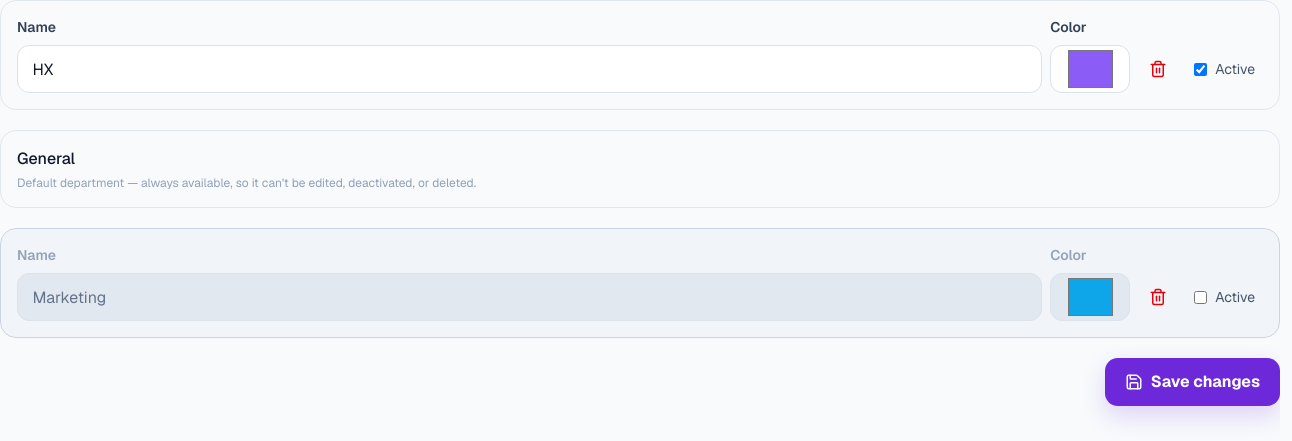
Test: DepartmentsBulkForm › the can't-delete error appears next to the buttons too
The image size is (1292, 441).
Click the button named "Delete HX".
click(1158, 69)  # box x1=1138 y1=45 x2=1178 y2=93
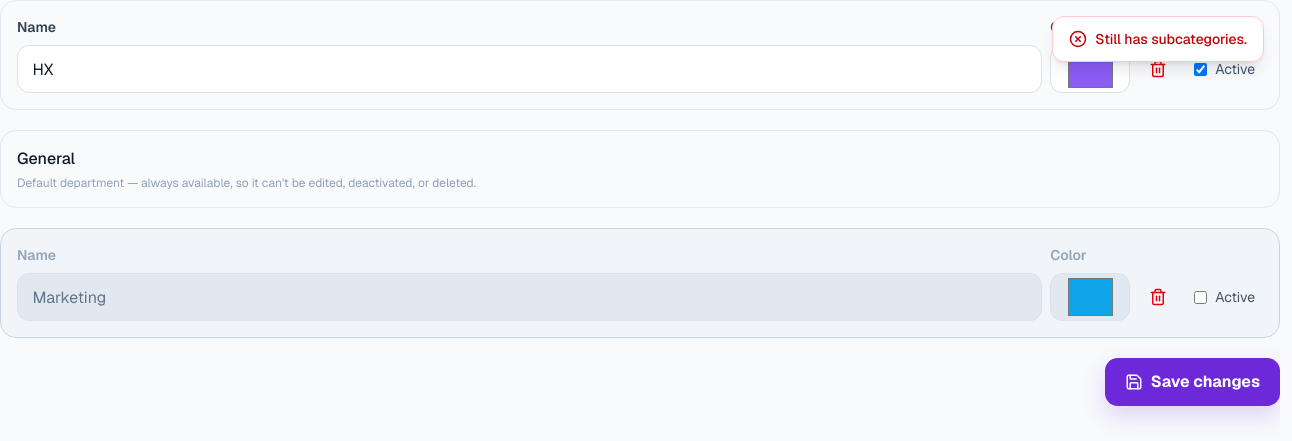
Now the message reads "Still has subcategories.", box x1=1095 y1=30 x2=1247 y2=48
